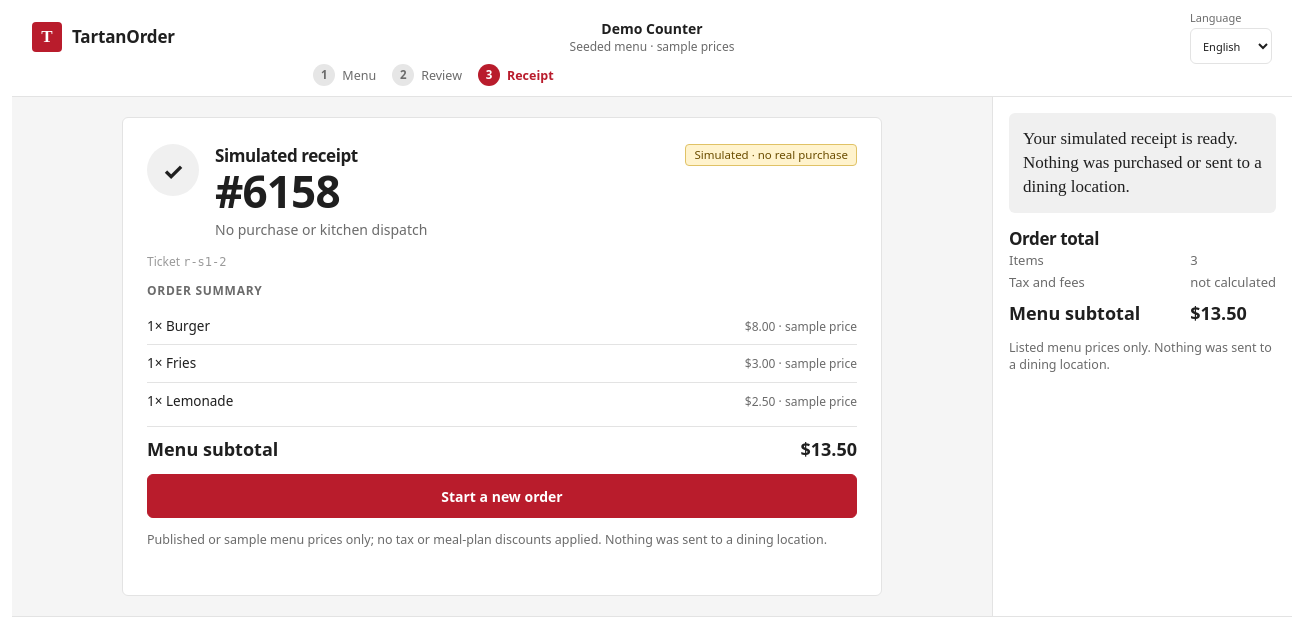
Scenario: Kiosk (fake controller, mocked voice) › committed shows ticket with simulated tag; New order resets
Check: the element with test id "ticket" is shown, box [122,117,882,596]
Check: the element with test id "ticket" shows "sample price", box [785,318,857,335]
Step 1. Click the button with test id "new-order" → coordinates (502, 496), box [147,474,857,518]
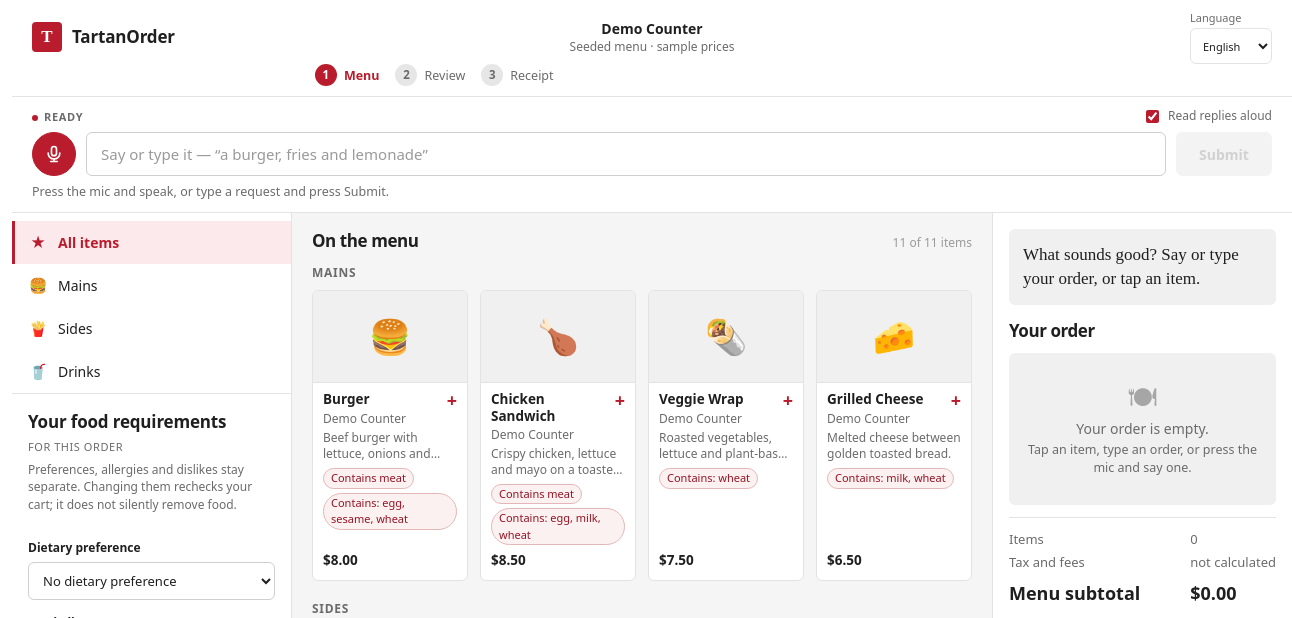
Check: the element with test id "cart-empty" is shown, box [1009,353,1276,505]
